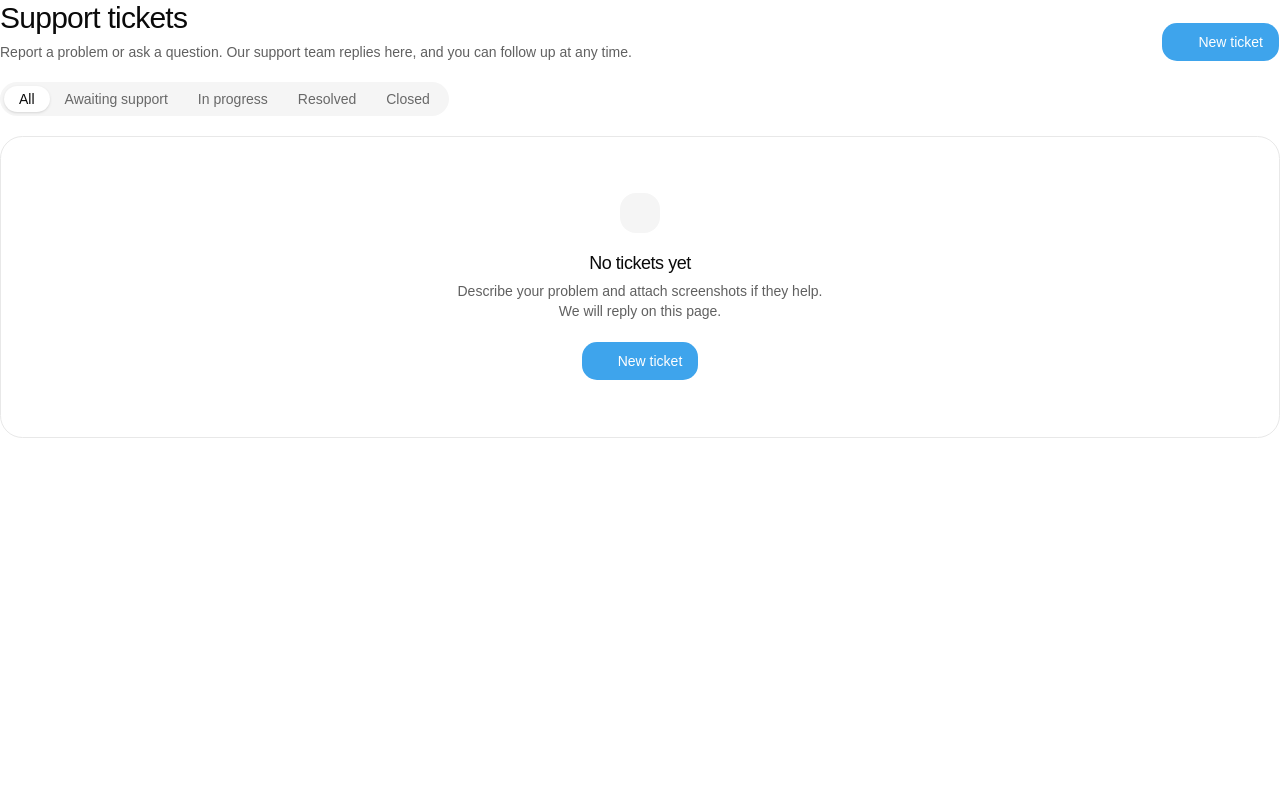
Test: next support ticket list › invites a first ticket from the empty state
Click the button "New ticket" below "No tickets yet".
click(640, 361)  # box top-left (581, 341), bottom-right (699, 381)
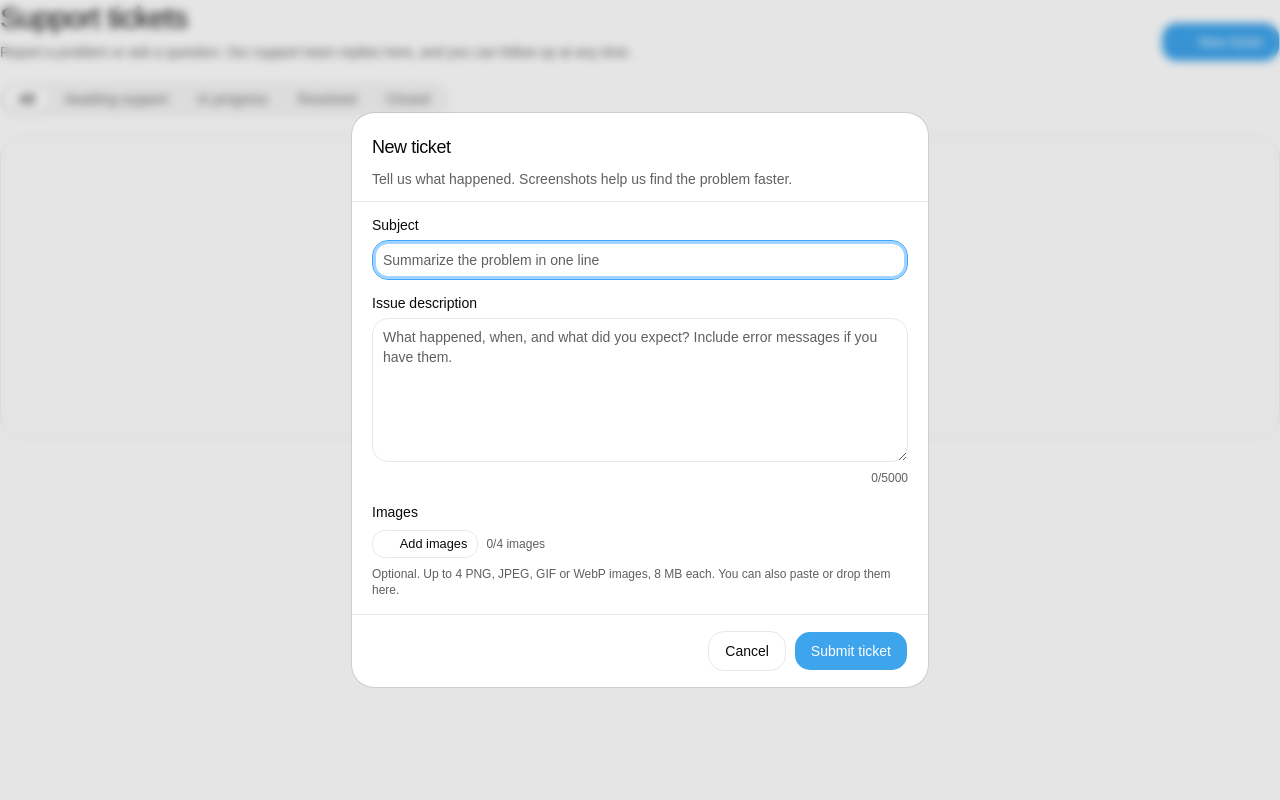
Result: the dialog "New ticket" is shown at top-left (352, 113), bottom-right (928, 687)
